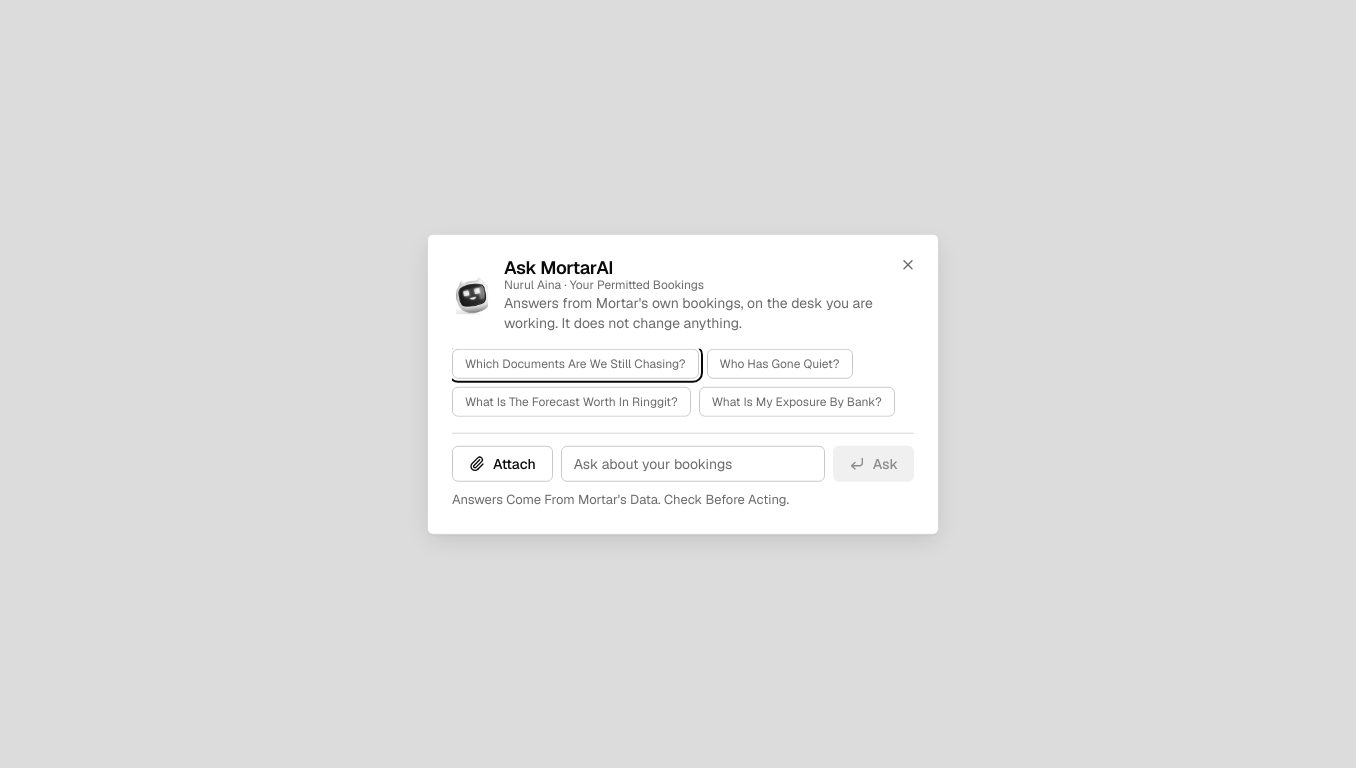
Test: AskPanel › falls back the same way when the request never lands
Step 1. Type "Which documents are we still chasing?" into the field labelled "Ask about your bookings" → (693, 464), box [561, 446, 825, 482]
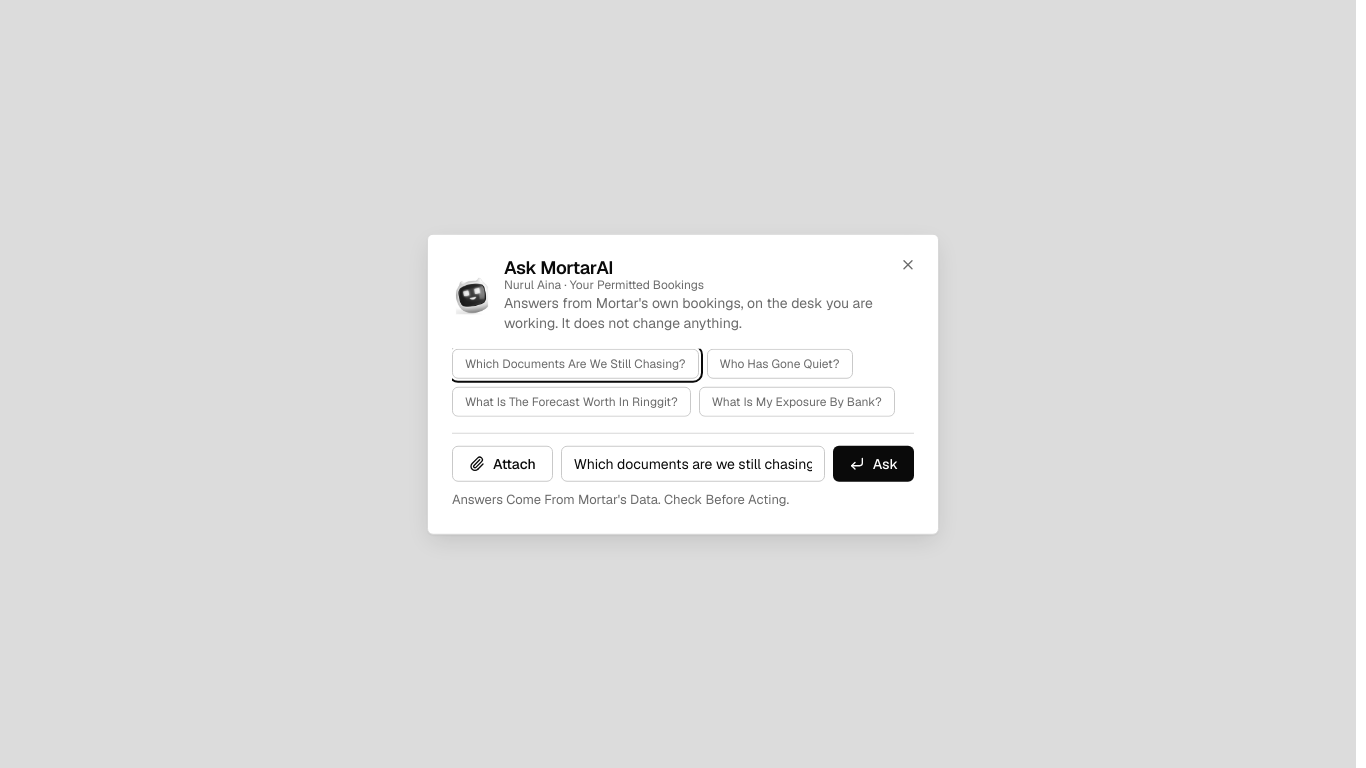
Step 2. Click the button "Ask" → (873, 464), box [833, 446, 914, 482]
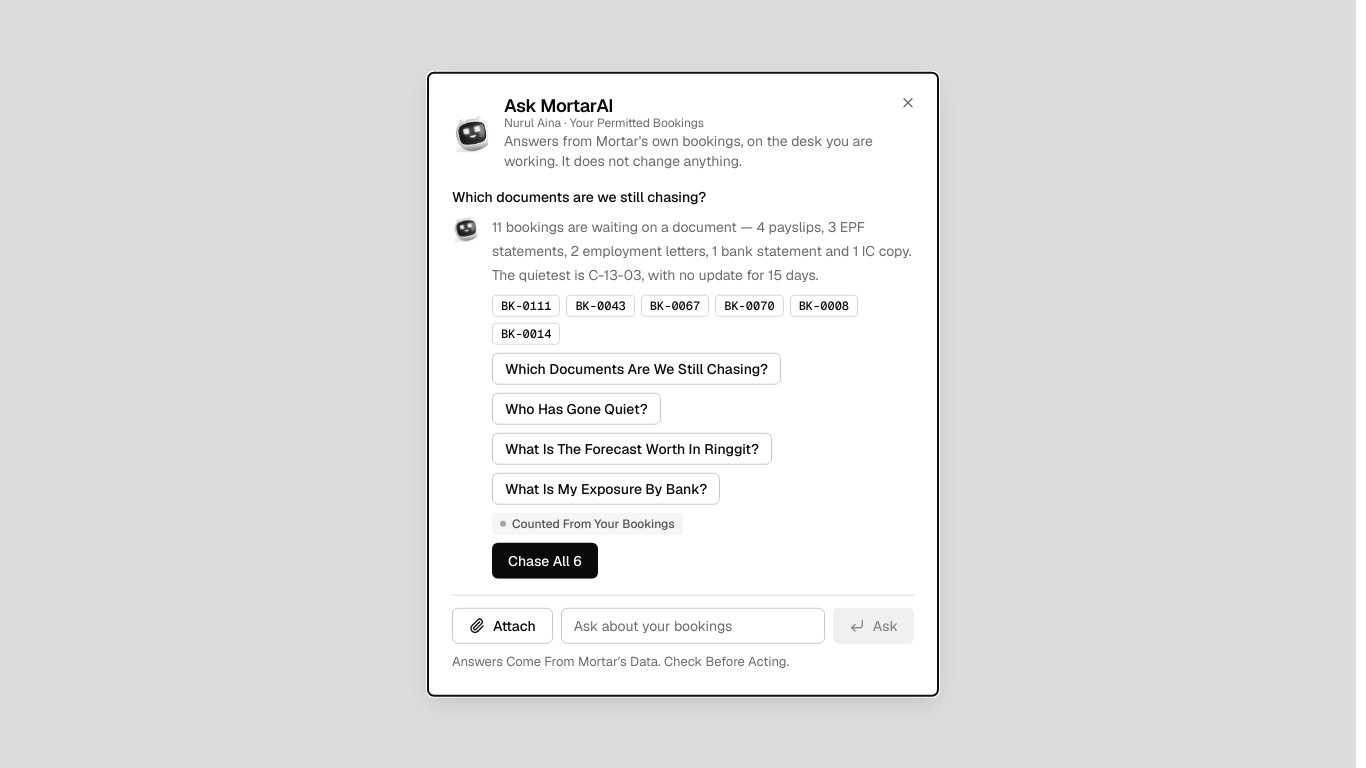
Expected: the text "are waiting on a document" is shown, [492, 218, 912, 284]
